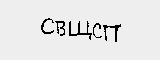В: (54, 20, 67, 40)
П: (103, 21, 122, 43)
С: (39, 17, 54, 37), (93, 21, 104, 42)
Щ: (69, 19, 93, 43)
